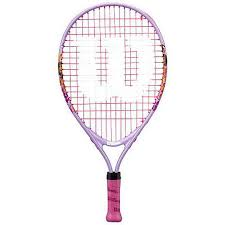tennis racket: (60, 1, 168, 225)
